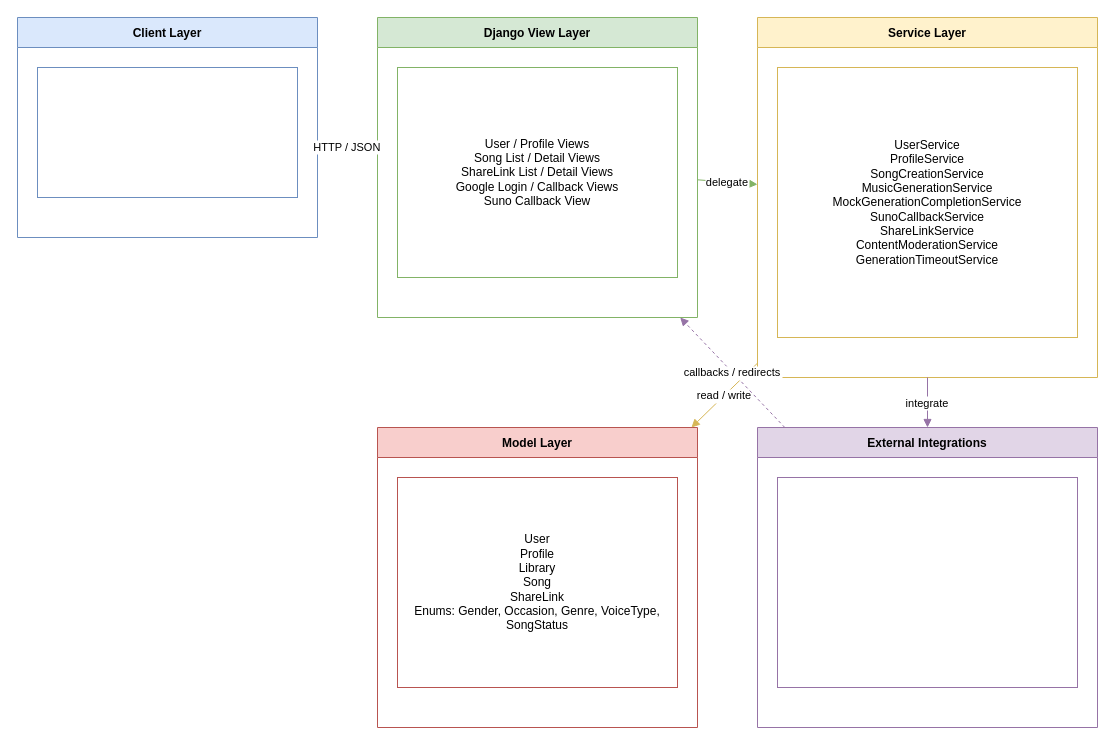
This 1115x745 diagram has some shape labels left out. Each missing label, with the centre of its shape:
"React / Vite Frontend - login - library - song creation - playback - share view" goes at point 167,132.
"Suno API ngrok / Public Tunnel Google OAuth Provider" goes at point 927,582.
